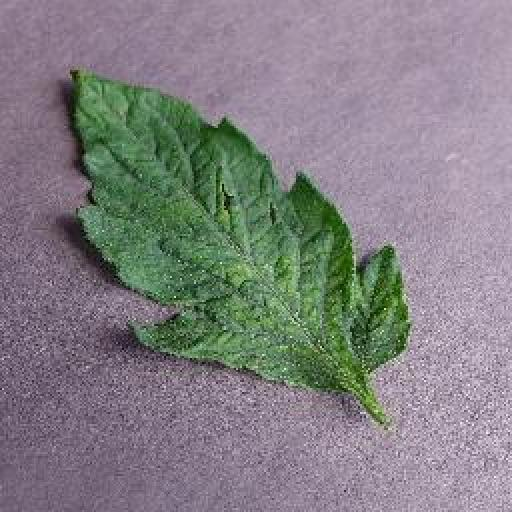disease_tomato: (68, 67, 414, 393)
